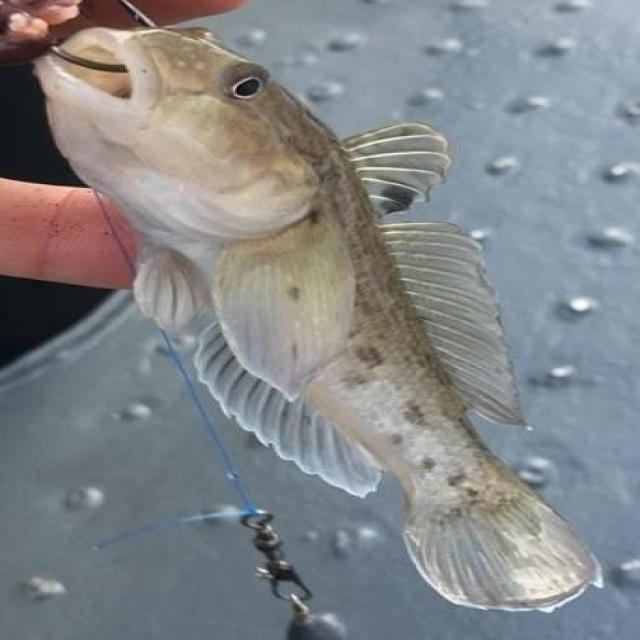Goby: (0, 16, 640, 606)
